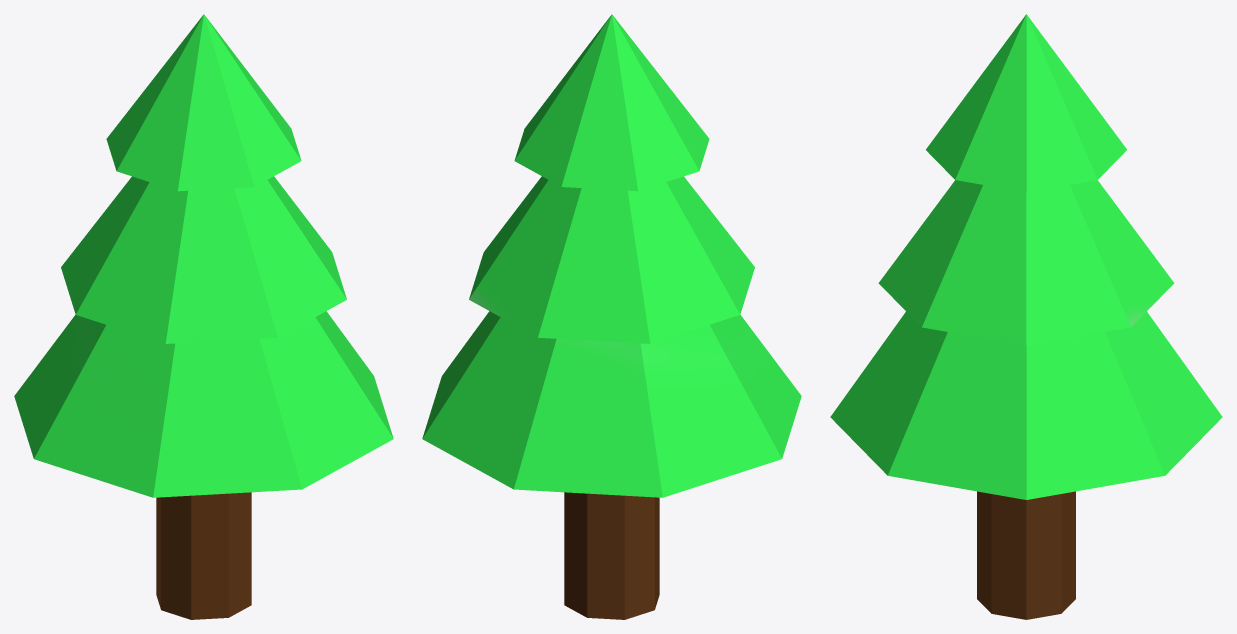
The model's file is tree03.glb.
3 renders of one model, left to right at view 1: azimuth 30°, elevation 25°; view 2: azimuth 150°, elevation 25°; view 3: azimuth 270°, elevation 25°, orthographic.
Visible parts, largest first — view 1: Cylinder; view 2: Cylinder; view 3: Cylinder.
Boxes of the visible parts, x1,y1,x2,y2 form: Cylinder: (14,14,393,619); Cylinder: (422,14,801,619); Cylinder: (830,14,1222,619).
Size of the model in its own units: 25.64 by 42.17 by 25.64.
Materials: 1 (1 with a texture image).
